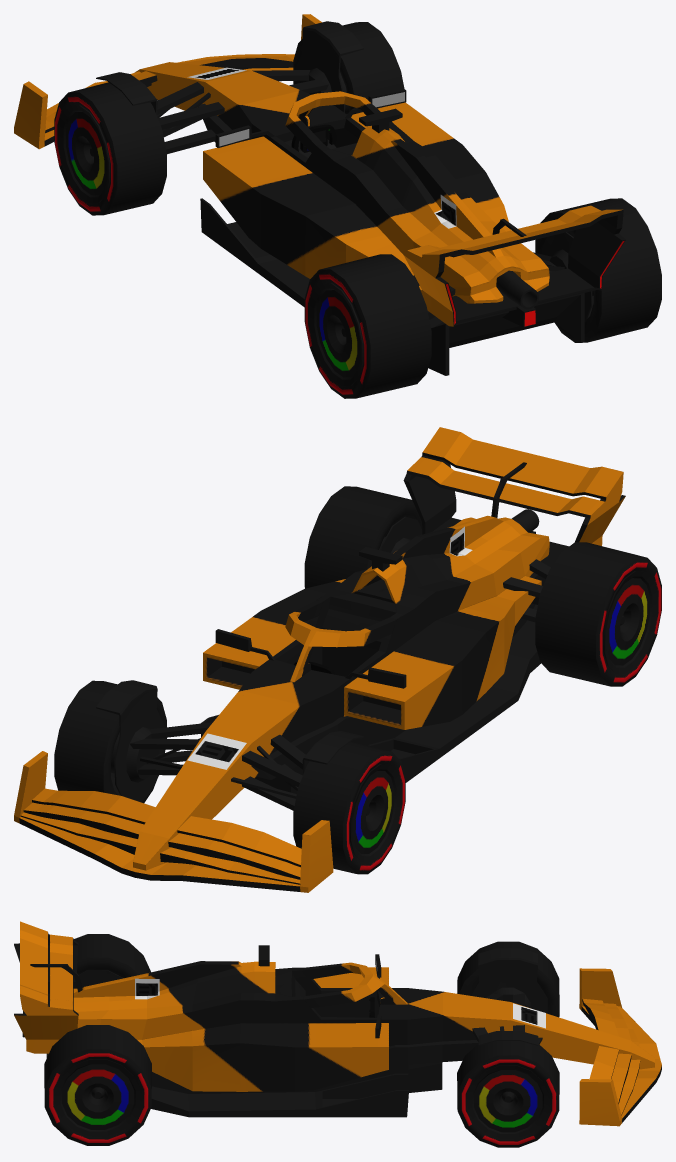
File: lowpolyf1.glb
3 renders of one model, top to bottom at view 1: azimuth 30°, elevation 25°; view 2: azimuth 150°, elevation 25°; view 3: azimuth 270°, elevation 25°, orthographic. The views are drawn at different scales.
Parts seen in each view (by area): view 1: Body, Tire_RL, Rear Wing, Tire_FL, Bottom, Tire_RR, Rim_RL, Front Wing Base, Rim_FL, Tire_FR, InsideCover_FR, FrontSuspension_L (+8 smaller); view 2: Body, Front Wing Base, Rear Wing, Tire_RL, Bottom, Tire_FL, Tire_RR, Tire_FR, InsideCover_FR, Rim_RL, Rim_FL, Body Halo (+7 smaller); view 3: Body, Bottom, Front Wing Base, Rear Wing, Tire_RR, Rim_RR, Rim_FR, Tire_FR, InsideCover_FL, Tire_RL, Body Halo, Tire_FL (+4 smaller).
Boxes of the visible parts, x1=… form: Body: x1=135, y1=62, x2=549, y2=303; Tire_RL: x1=304, y1=254, x2=431, y2=398; Rear Wing: x1=404, y1=205, x2=625, y2=327; Tire_FL: x1=54, y1=82, x2=166, y2=215; Bottom: x1=198, y1=103, x2=584, y2=375; Tire_RR: x1=535, y1=198, x2=661, y2=342; Rim_RL: x1=309, y1=283, x2=363, y2=385; Front Wing Base: x1=14, y1=14, x2=321, y2=149; Rim_FL: x1=59, y1=105, x2=110, y2=203; Tire_FR: x1=293, y1=22, x2=404, y2=114; InsideCover_FR: x1=295, y1=21, x2=363, y2=114; FrontSuspension_L: x1=157, y1=82, x2=224, y2=154; Body: x1=133, y1=515, x2=549, y2=870; Front Wing Base: x1=14, y1=751, x2=333, y2=892; Rear Wing: x1=403, y1=427, x2=625, y2=567; Tire_RL: x1=535, y1=542, x2=661, y2=686; Bottom: x1=200, y1=572, x2=545, y2=793; Tire_FL: x1=293, y1=741, x2=405, y2=874; Tire_RR: x1=304, y1=486, x2=422, y2=588; Tire_FR: x1=54, y1=680, x2=166, y2=803; InsideCover_FR: x1=96, y1=680, x2=164, y2=801; Rim_RL: x1=603, y1=571, x2=656, y2=673; Rim_FL: x1=349, y1=764, x2=400, y2=862; Body Halo: x1=285, y1=600, x2=396, y2=682; Body: x1=73, y1=954, x2=654, y2=1091; Bottom: x1=46, y1=1040, x2=478, y2=1117; Front Wing Base: x1=579, y1=968, x2=661, y2=1126; Rear Wing: x1=14, y1=921, x2=82, y2=1053; Tire_RR: x1=44, y1=1025, x2=151, y2=1145; Rim_RR: x1=55, y1=1059, x2=140, y2=1136; Rim_FR: x1=468, y1=1065, x2=548, y2=1138; Tire_FR: x1=457, y1=1041, x2=559, y2=1147; InsideCover_FL: x1=470, y1=948, x2=547, y2=1013; Tire_RL: x1=74, y1=934, x2=150, y2=977; Body Halo: x1=303, y1=962, x2=407, y2=1008; Tire_FL: x1=457, y1=941, x2=559, y2=1017.
Bounding box in the file's own units: 149 × 82.55 × 351.
8 materials, 4 textured.
